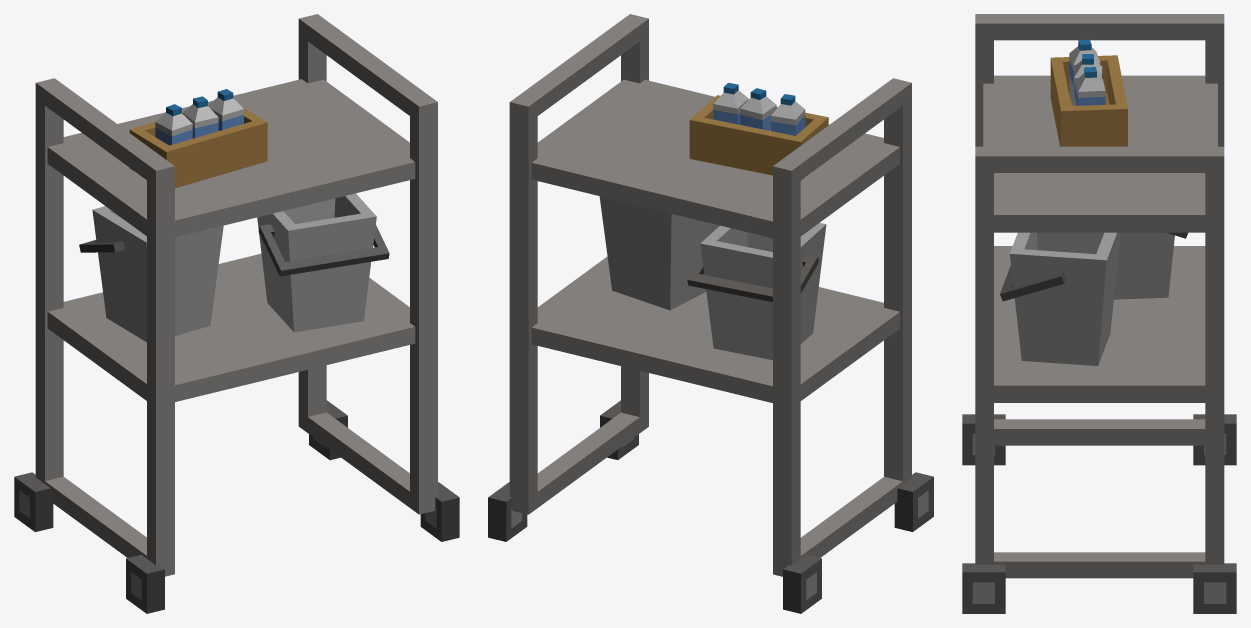
File: AI_Prop_MedicalShelf.fbx
3 views of the same model, side by side, from view 1: azimuth 30°, elevation 25°; view 2: azimuth 150°, elevation 25°; view 3: azimuth 270°, elevation 25° (orthographic). The views are drawn at different scales.
Visible parts, largest first — view 1: AI_Prop_MedicalShelf; view 2: AI_Prop_MedicalShelf; view 3: AI_Prop_MedicalShelf.
Part boxes in pixels (x1,y1,x2,y2): AI_Prop_MedicalShelf: (14, 14, 459, 613); AI_Prop_MedicalShelf: (488, 14, 933, 613); AI_Prop_MedicalShelf: (962, 14, 1236, 613).
Size of the model in its own units: 1.5 by 2.03 by 1.1.
